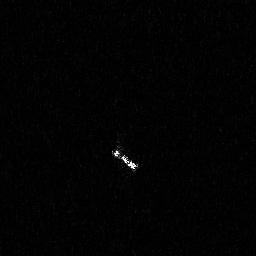ship: (109, 146, 140, 171)
